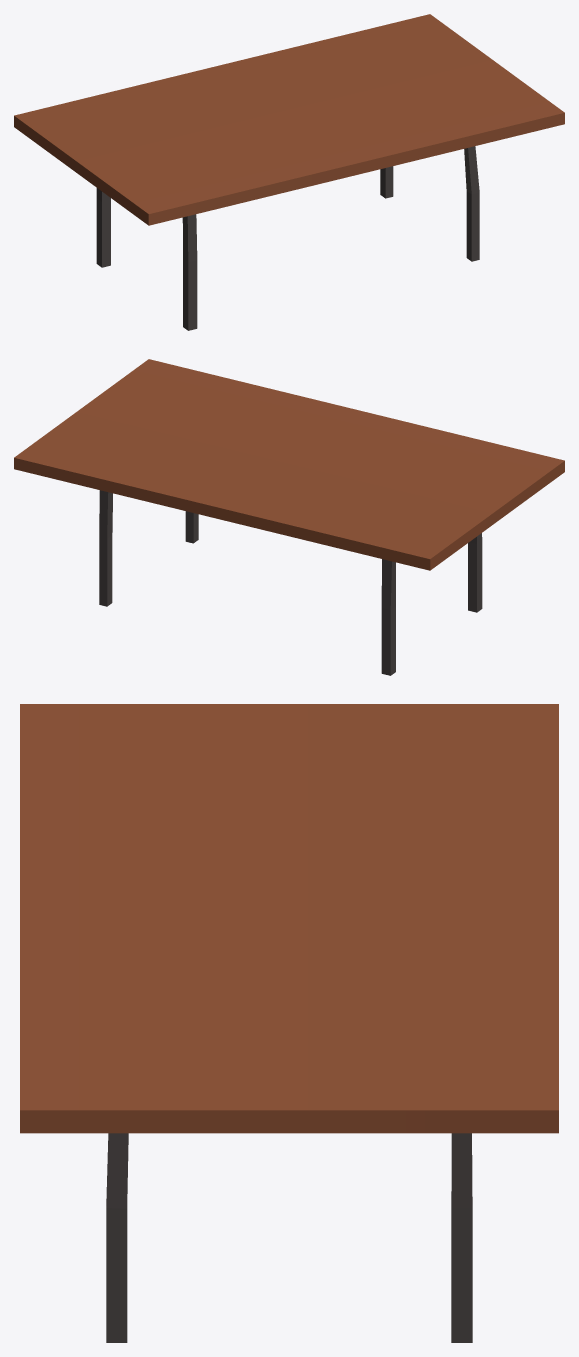
File: Table.001.fbx
The picture shows the model from 3 angles, top to bottom: view 1: azimuth 30°, elevation 25°; view 2: azimuth 150°, elevation 25°; view 3: azimuth 270°, elevation 25°; orthographic projection. The views are drawn at different scales.
Parts seen in each view (by area): view 1: Table.001; view 2: Table.001; view 3: Table.001.
Boxes of the visible parts, box(x1,y1,x2,y2) form: Table.001: box(14, 14, 564, 330); Table.001: box(14, 359, 564, 675); Table.001: box(20, 704, 558, 1342).
Size of the model in its own units: 200 by 67.7 by 112.
